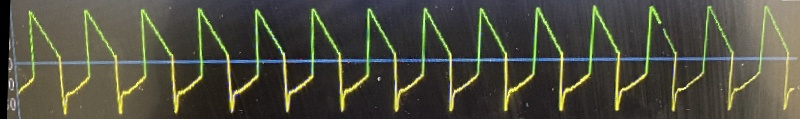peepi: (16, 0, 800, 116)
